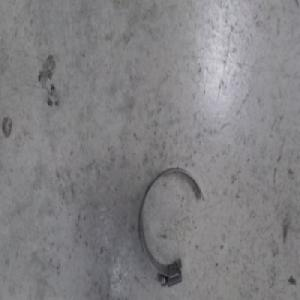AdjustableClamp: (138, 164, 205, 288)
